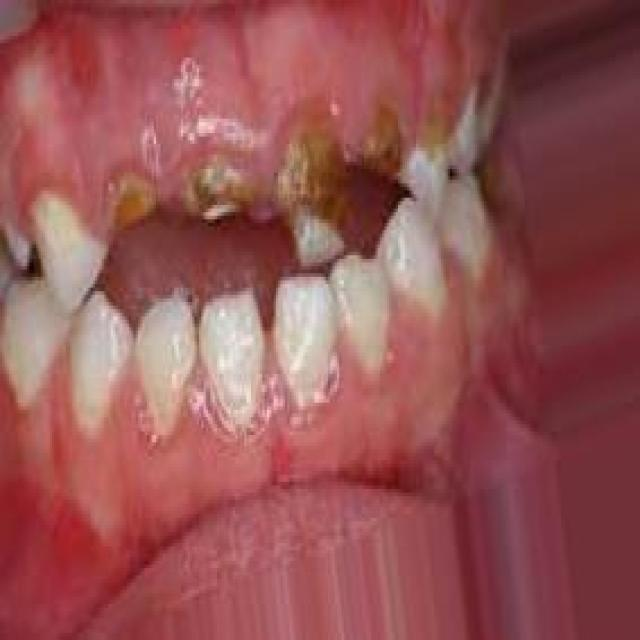caries: (268, 115, 351, 270), (349, 94, 417, 210), (180, 144, 254, 240), (412, 92, 462, 221), (103, 162, 163, 242)
